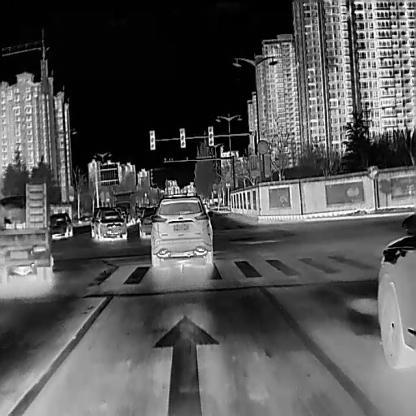car: (377, 212, 416, 371), (0, 180, 53, 283), (150, 192, 213, 267), (92, 205, 126, 239), (49, 210, 72, 238), (115, 190, 135, 222), (138, 205, 157, 237)
